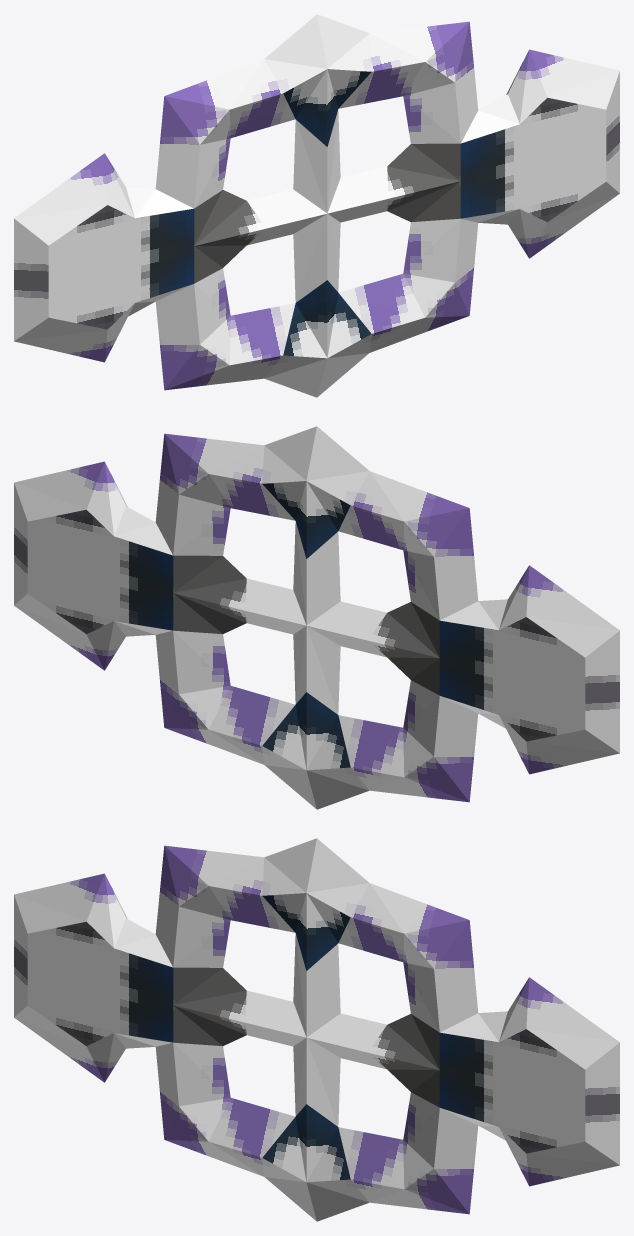
Rendered from doubleedge.obj.
The picture shows the model from 3 angles, top to bottom: view 1: azimuth 30°, elevation 25°; view 2: azimuth 150°, elevation 25°; view 3: azimuth 330°, elevation 25°; orthographic projection.
Size of the model in its own units: 100 by 60.48 by 6.
